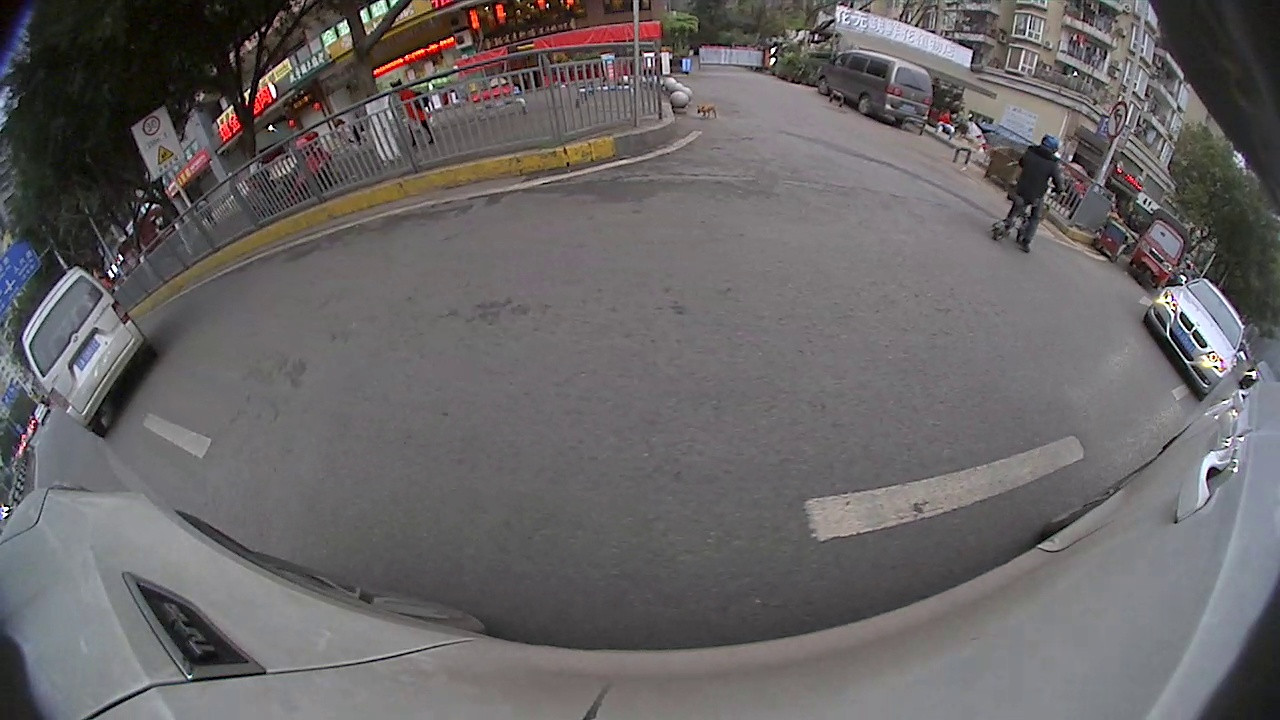car: (16, 261, 161, 441), (1139, 270, 1252, 403), (811, 45, 937, 133)
front: (817, 77, 833, 94)
rear: (991, 215, 1014, 244), (856, 95, 875, 118)
rider: (992, 125, 1066, 260), (1121, 202, 1198, 297)
